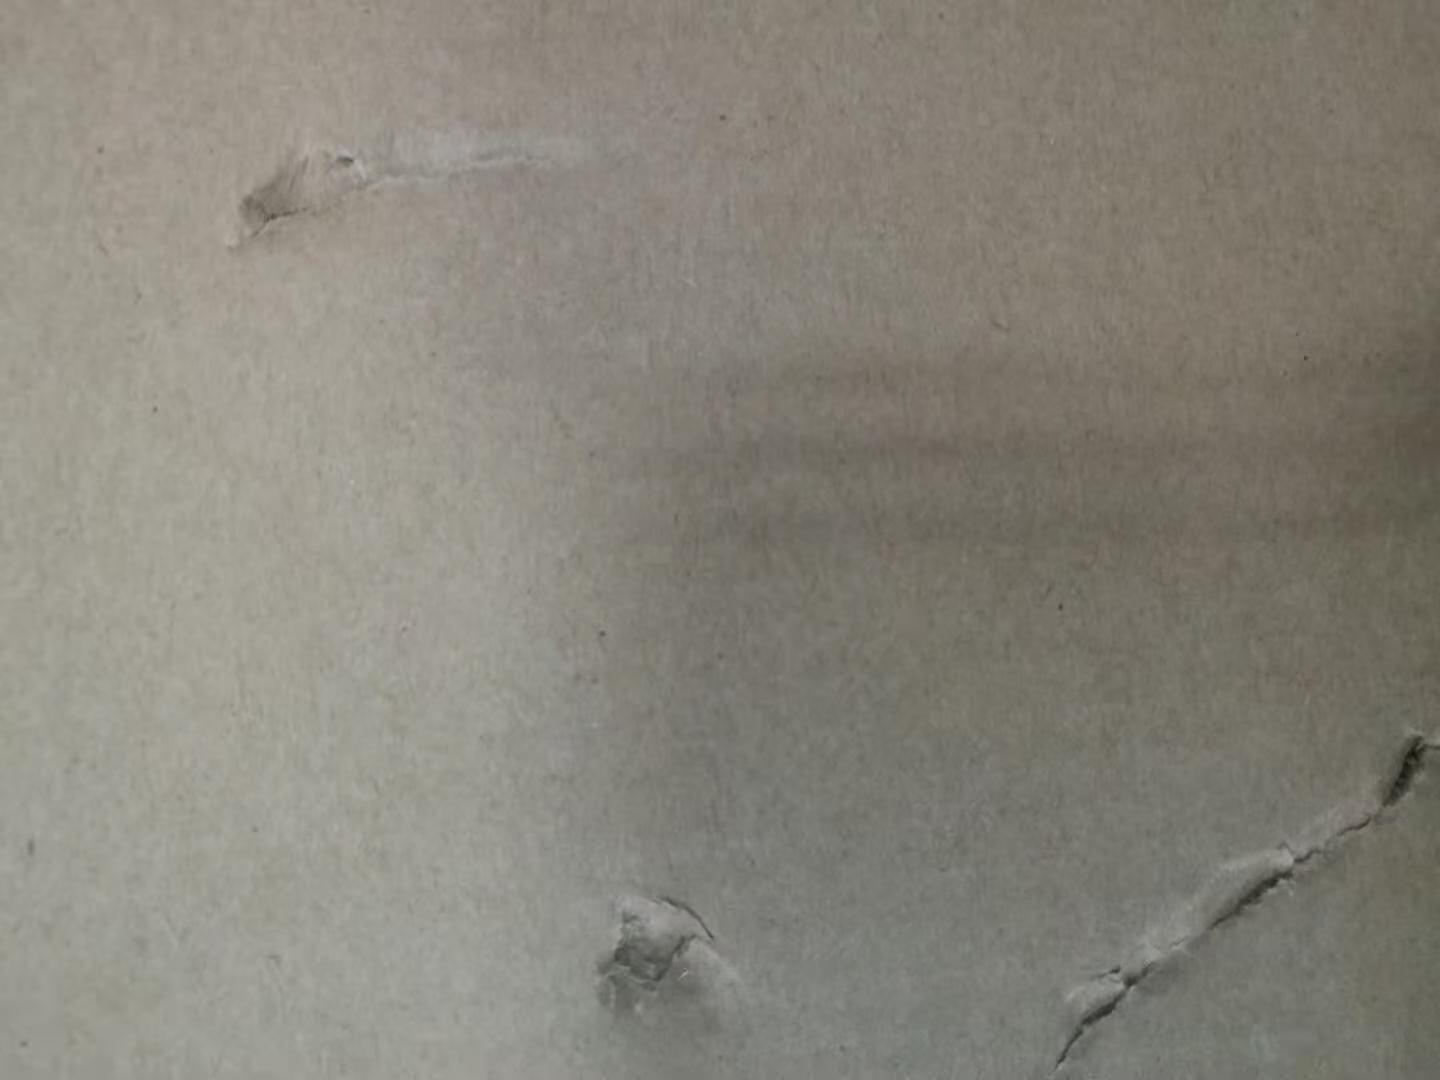defect: (1022, 703, 1438, 1080), (197, 108, 611, 269), (565, 866, 783, 1052)
